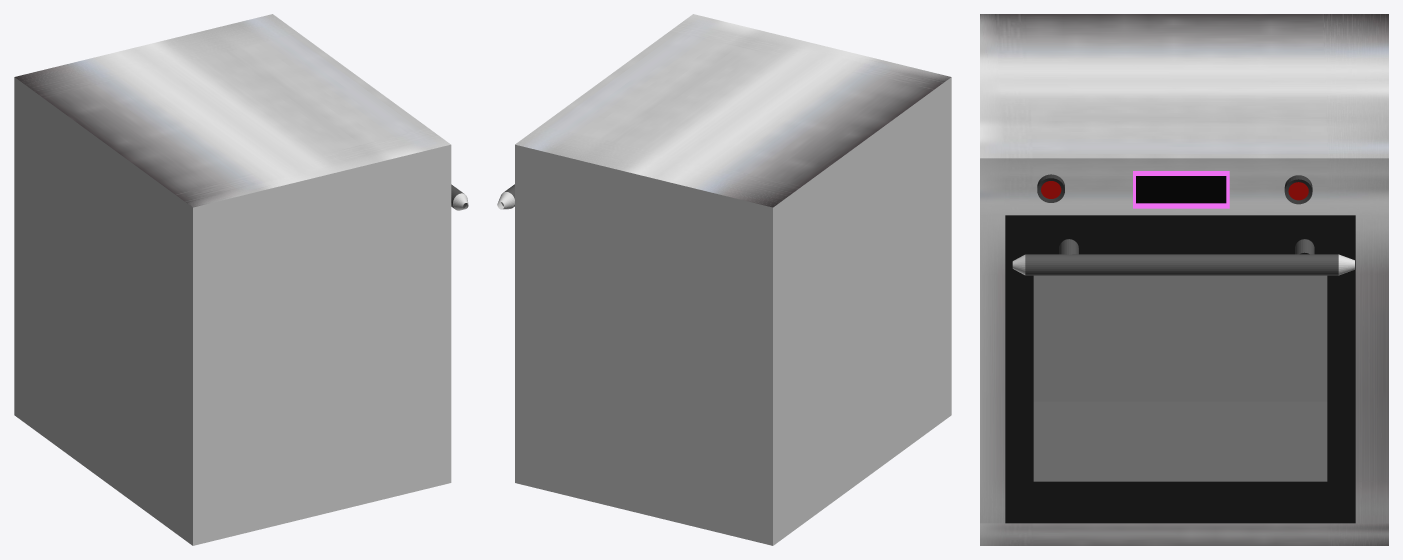
Rendered from oven.glb.
3 renders of one model, left to right at view 1: azimuth 30°, elevation 25°; view 2: azimuth 150°, elevation 25°; view 3: azimuth 270°, elevation 25°, orthographic. The views are drawn at different scales.
Parts seen in each view (by area): view 1: Cylinder.004; view 2: Cylinder.004; view 3: Cylinder.004.
Part boxes in pixels (bbox=[...]): Cylinder.004: bbox=[14, 14, 468, 545]; Cylinder.004: bbox=[497, 14, 951, 545]; Cylinder.004: bbox=[980, 14, 1388, 545].
Bounding box in the file's own units: 2.28 × 2.5 × 2.39.
Materials: 10 (1 with a texture image).
